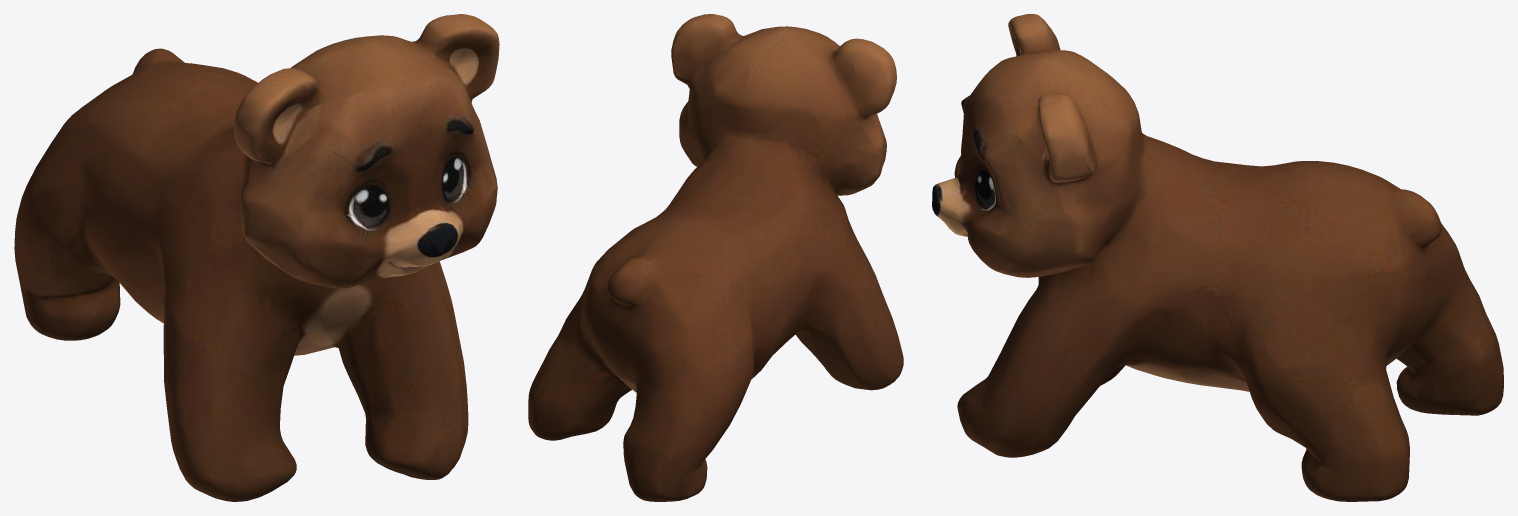
The model's file is bear.glb.
3 renders of one model, left to right at view 1: azimuth 30°, elevation 25°; view 2: azimuth 150°, elevation 25°; view 3: azimuth 270°, elevation 25°, orthographic. The views are drawn at different scales.
Size of the model in its own units: 1.1 by 1.41 by 1.9.
1 material, 1 textured.
